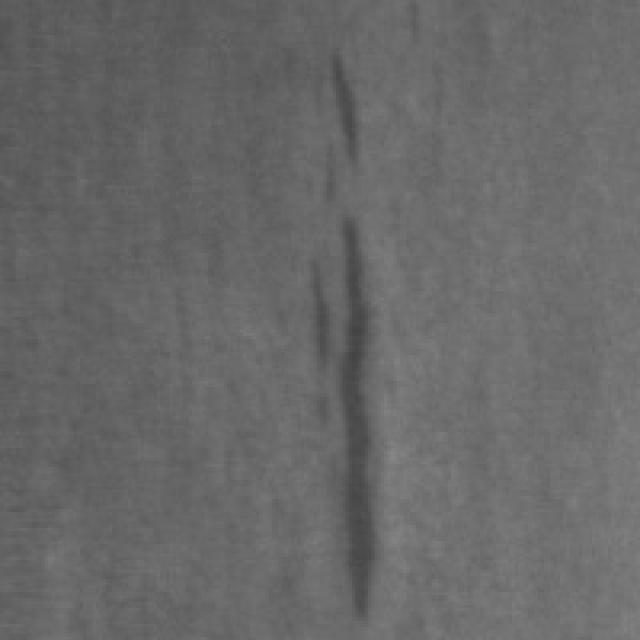inclusion: (304, 198, 397, 621), (314, 38, 381, 195)
